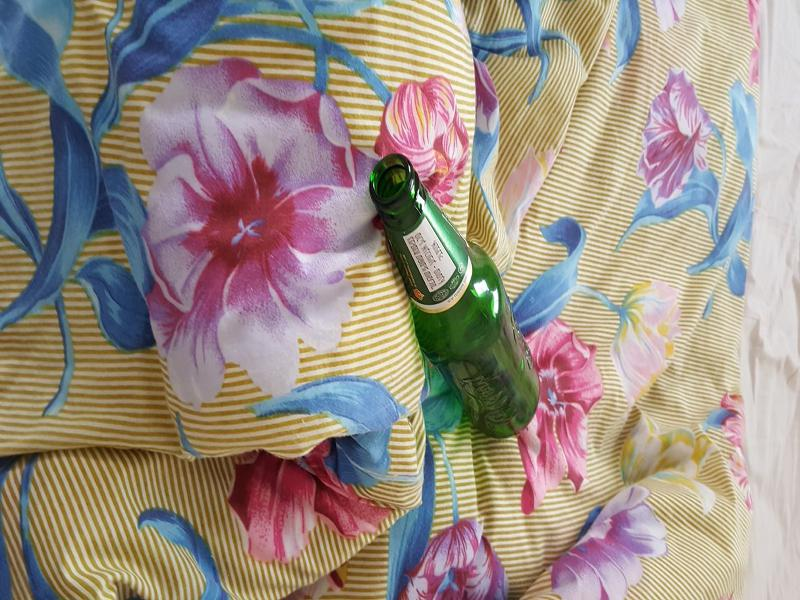Beer: (367, 155, 538, 434)
